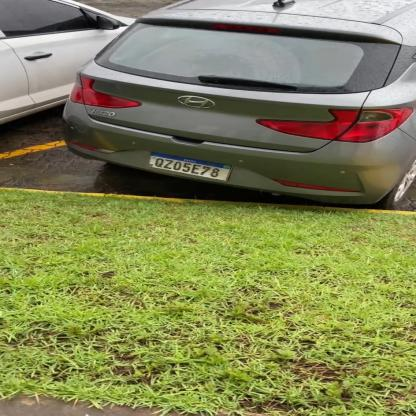Plate: (144, 149, 236, 184)
